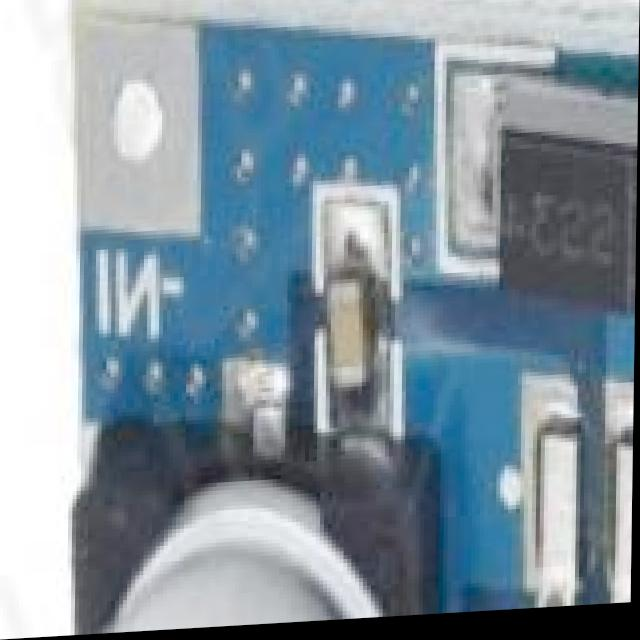IC: (457, 490, 634, 618)
capacitor: (0, 487, 450, 640), (319, 250, 375, 425)
diode: (480, 102, 638, 341)
